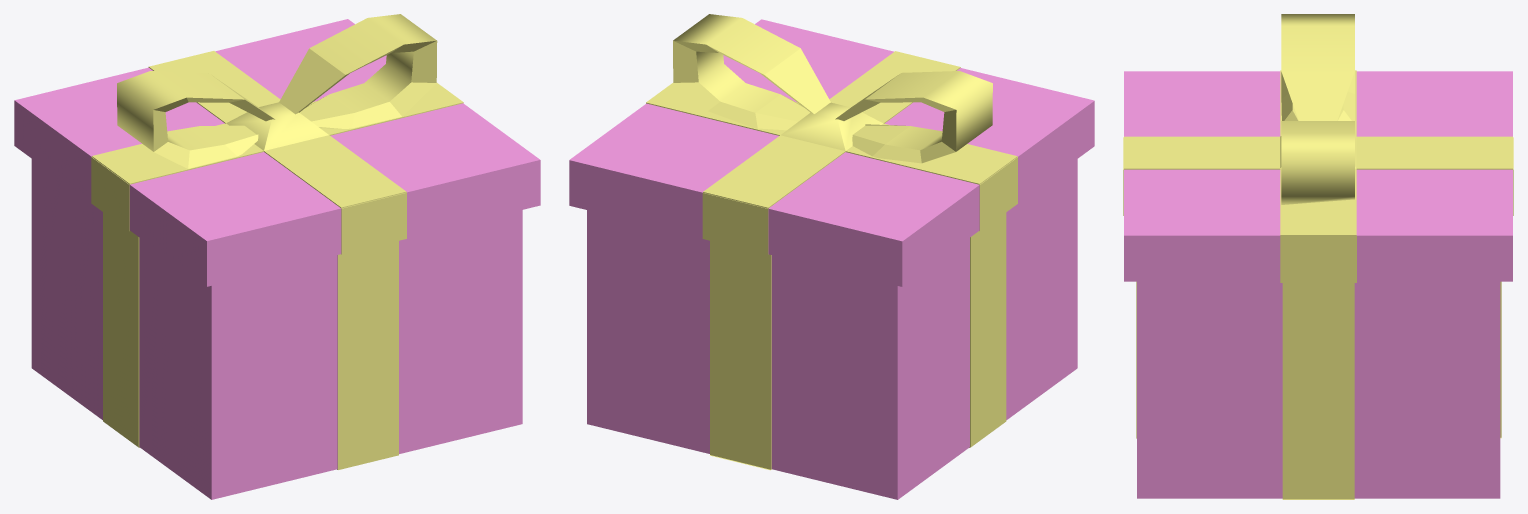
Rendered from liwuhe.fbx.
3 renders of one model, left to right at view 1: azimuth 30°, elevation 25°; view 2: azimuth 150°, elevation 25°; view 3: azimuth 270°, elevation 25°, orthographic.
Visible parts, largest first — view 1: polySurface81, polySurface56, polySurface34, polySurface40, pCube9, pCube10, polySurface63, polySurface46, polySurface55; view 2: polySurface81, polySurface56, polySurface34, polySurface61, pCube9, pCube10, polySurface63, polySurface36, polySurface55; view 3: polySurface81, polySurface56, polySurface66, polySurface34, pCube10, pCube9, polySurface47.
Boxes of the visible parts, bbox=[...] form: polySurface81: bbox=[31, 159, 522, 499]; polySurface56: bbox=[14, 19, 540, 286]; polySurface34: bbox=[92, 51, 463, 208]; polySurface40: bbox=[337, 241, 398, 469]; pCube9: bbox=[279, 14, 437, 128]; pCube10: bbox=[117, 71, 274, 168]; polySurface63: bbox=[103, 212, 139, 447]; polySurface46: bbox=[341, 192, 406, 254]; polySurface55: bbox=[91, 157, 129, 231]; polySurface81: bbox=[587, 159, 1077, 499]; polySurface56: bbox=[569, 19, 1094, 286]; polySurface34: bbox=[646, 51, 1017, 208]; polySurface61: bbox=[710, 241, 771, 469]; pCube9: bbox=[673, 14, 830, 130]; pCube10: bbox=[835, 71, 992, 163]; polySurface63: bbox=[970, 212, 1006, 447]; polySurface36: bbox=[702, 193, 768, 254]; polySurface55: bbox=[979, 157, 1017, 231]; polySurface81: bbox=[1137, 281, 1500, 498]; polySurface56: bbox=[1124, 71, 1512, 281]; polySurface66: bbox=[1282, 283, 1354, 499]; polySurface34: bbox=[1124, 70, 1512, 235]; pCube10: bbox=[1281, 14, 1354, 120]; pCube9: bbox=[1281, 121, 1354, 204]; polySurface47: bbox=[1280, 236, 1356, 282].
Size of the model in its own units: 2 by 2 by 1.94.
